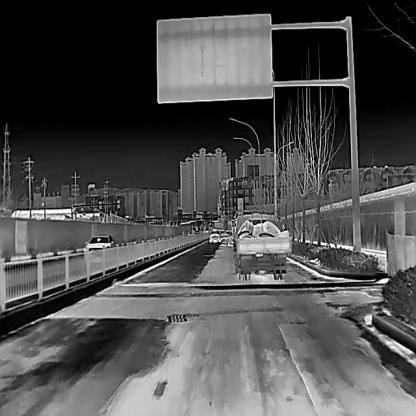car: (233, 208, 291, 281), (84, 234, 115, 262), (209, 230, 220, 243), (227, 229, 233, 245)
